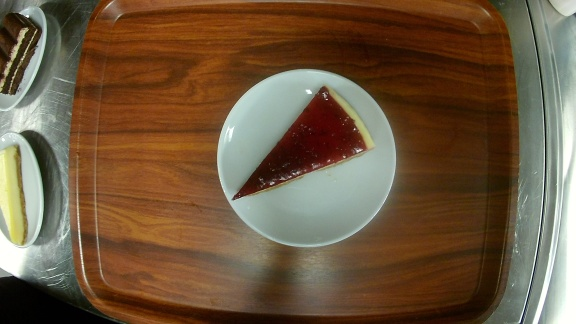frambuazlipasta: (218, 69, 398, 249)
